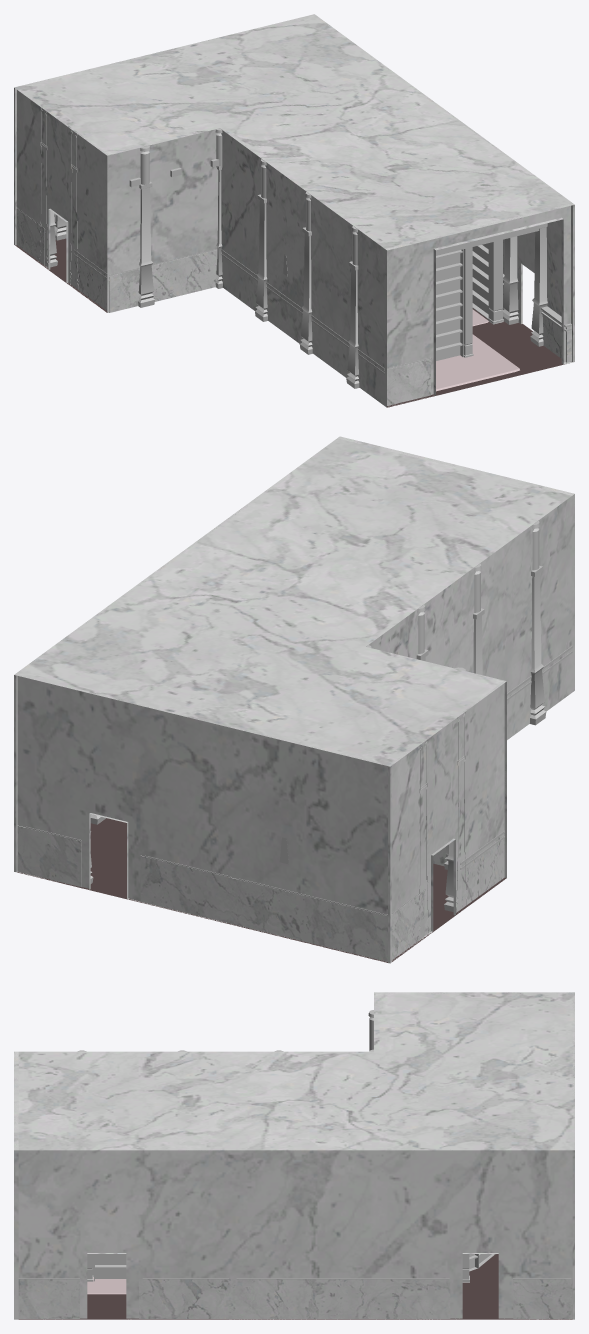
Rendered from HallwayTileTypeA.fbx.
3 views of the same model, one above another, from view 1: azimuth 30°, elevation 25°; view 2: azimuth 150°, elevation 25°; view 3: azimuth 270°, elevation 25° (orthographic). The views are drawn at different scales.
Visible parts, largest first — view 1: HallwayTileTypeA, Rug__1_, ShelfB__7_, BooksTexSide__3__1, ShelfBThin__10_, BooksTex__2__2, AtticBeams__2_; view 2: HallwayTileTypeA; view 3: HallwayTileTypeA, BooksTex__5__1, Rug__1_.
Part boxes in pixels (box(x1,y1,x2,y2)): HallwayTileTypeA: box(14, 14, 574, 407); Rug__1_: box(436, 334, 519, 391); ShelfB__7_: box(436, 247, 473, 357); BooksTexSide__3__1: box(436, 253, 460, 360); ShelfBThin__10_: box(472, 239, 503, 324); BooksTex__2__2: box(472, 243, 488, 314); AtticBeams__2_: box(436, 225, 539, 255); HallwayTileTypeA: box(14, 436, 574, 963); HallwayTileTypeA: box(14, 992, 574, 1319); BooksTex__5__1: box(95, 1254, 126, 1278); Rug__1_: box(87, 1277, 126, 1294).
Bounding box in the file's own units: 1600 × 807 × 2400.
